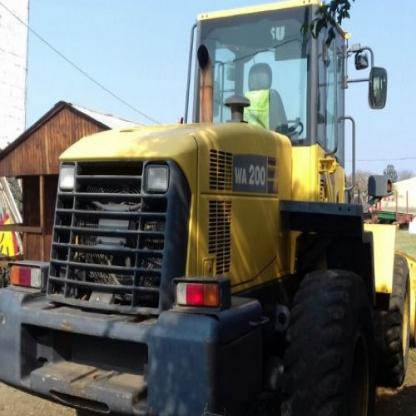bull_dozer/loader/grader: (3, 5, 415, 410)
